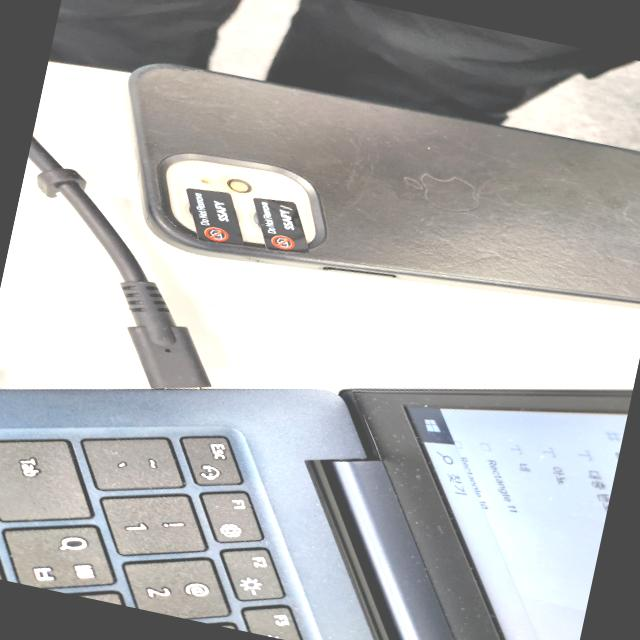phone: (94, 46, 640, 347)
sticker: (177, 180, 249, 250), (246, 194, 318, 256)
